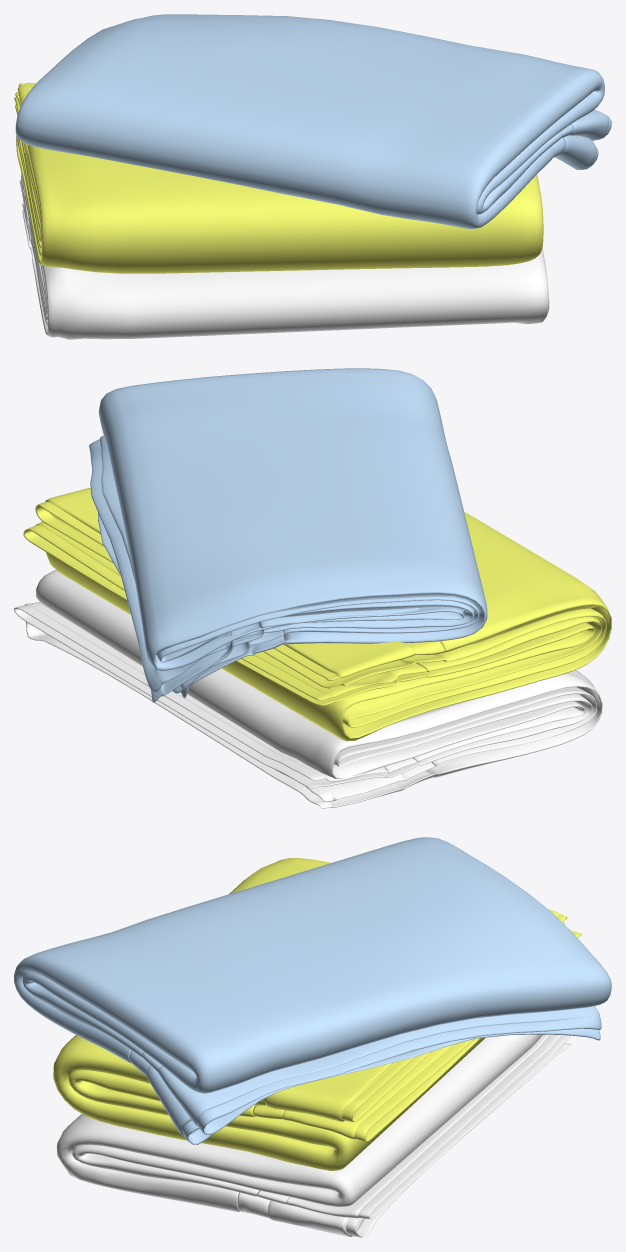
The model's file is LV_MS_towel.fbx.
The picture shows the model from 3 angles, top to bottom: view 1: azimuth 30°, elevation 25°; view 2: azimuth 150°, elevation 25°; view 3: azimuth 270°, elevation 25°; orthographic projection. The views are drawn at different scales.
Visible parts, largest first — view 1: Towels.obje03cb7c3-3a77-4dc4-bcac-17cd1e64815f; view 2: Towels.obje03cb7c3-3a77-4dc4-bcac-17cd1e64815f; view 3: Towels.obje03cb7c3-3a77-4dc4-bcac-17cd1e64815f.
Boxes of the visible parts, x1=… form: Towels.obje03cb7c3-3a77-4dc4-bcac-17cd1e64815f: x1=14, y1=14, x2=611, y2=339; Towels.obje03cb7c3-3a77-4dc4-bcac-17cd1e64815f: x1=14, y1=368, x2=611, y2=808; Towels.obje03cb7c3-3a77-4dc4-bcac-17cd1e64815f: x1=14, y1=837, x2=611, y2=1237.
Bounding box in the file's own units: 172 × 59.65 × 166.
